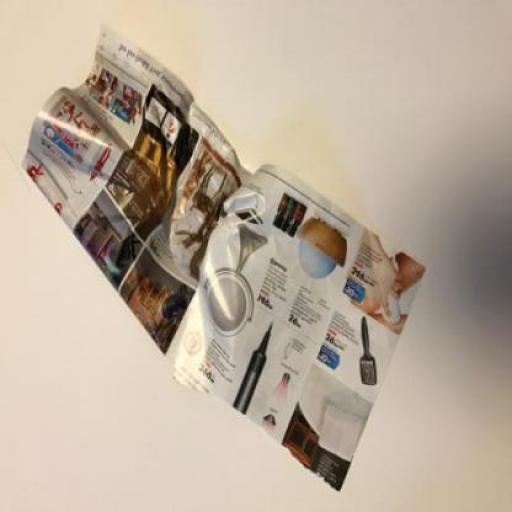paper: (21, 24, 425, 494)
